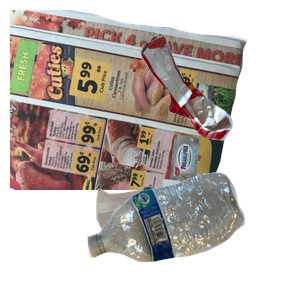glass: (94, 184, 253, 300)
paper: (10, 10, 250, 190)
plastic: (85, 170, 300, 300)
trash: (139, 34, 300, 167)
